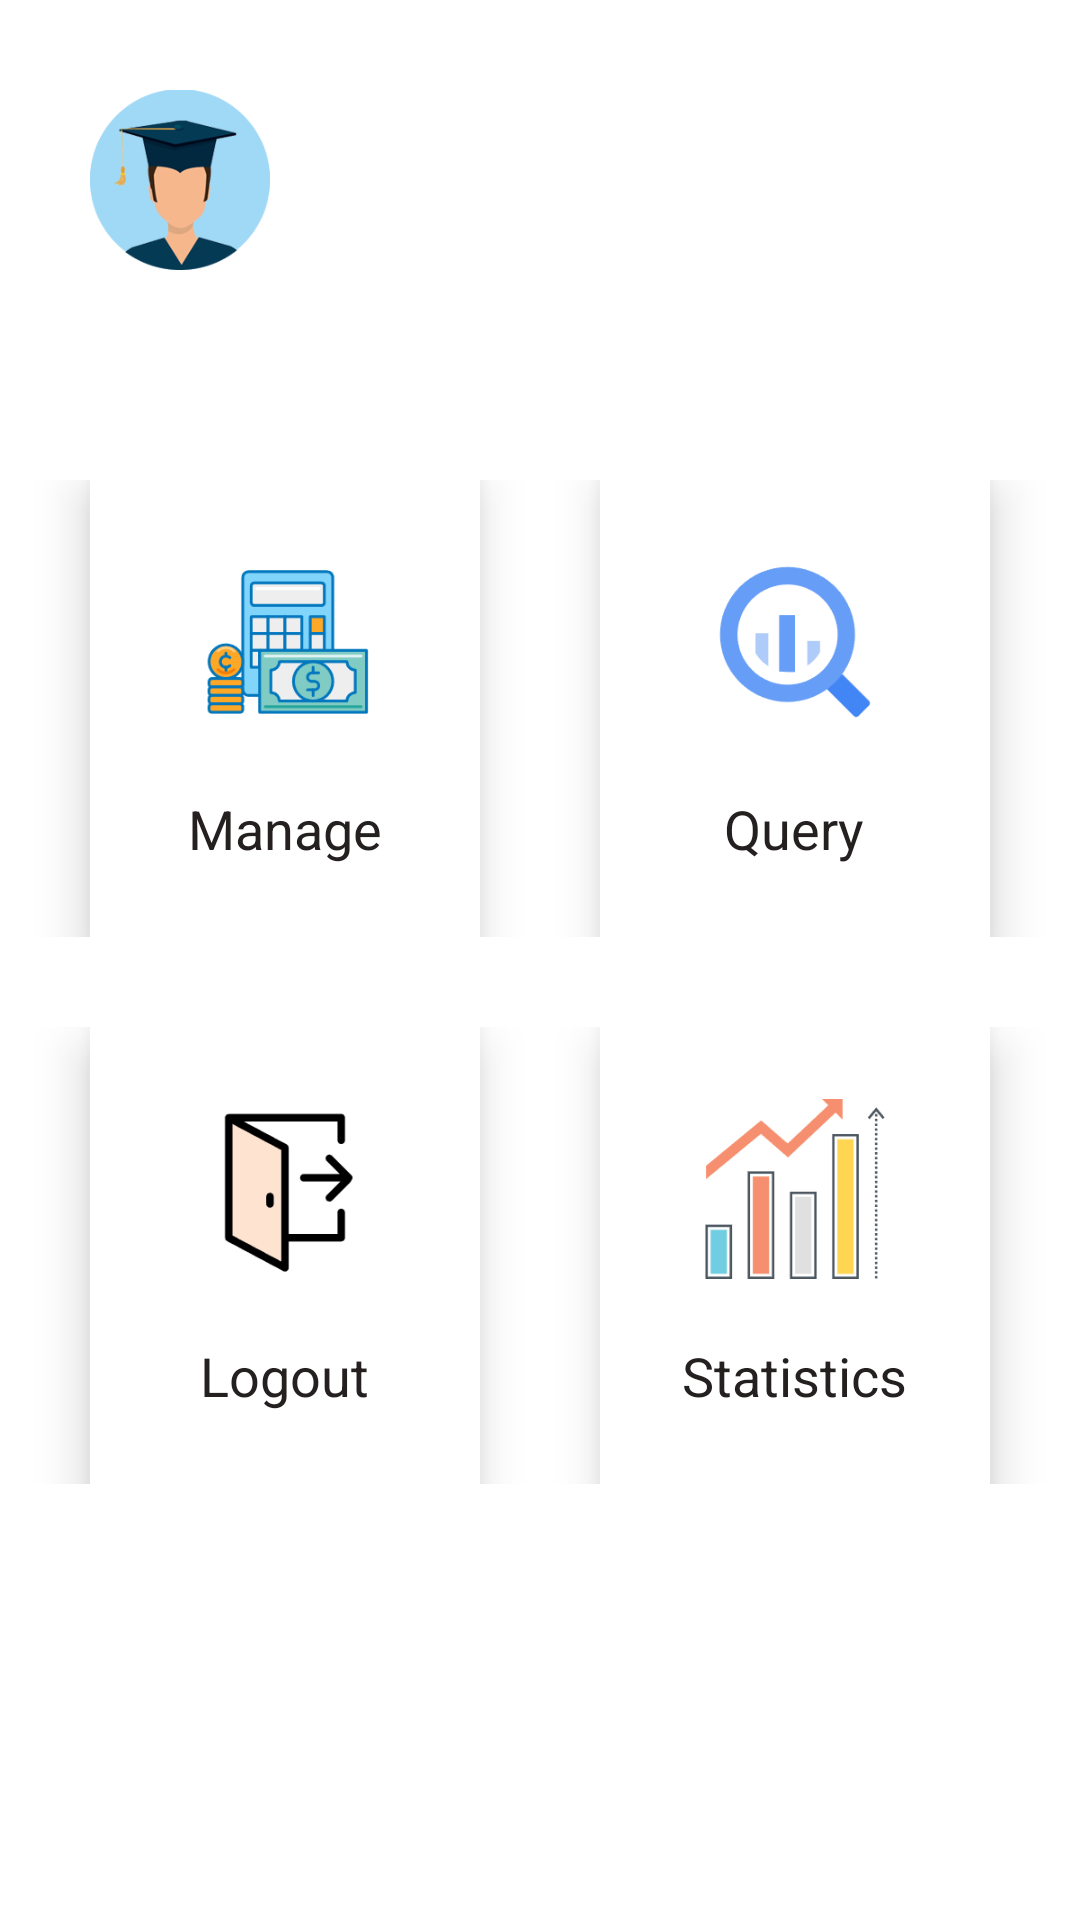

Where icons sit on this 1080*1920 app screen, as (left=x1, top=y1, right=x2, bottom=y2):
exit: (left=224, top=1113, right=353, bottom=1272)
profile: (left=90, top=90, right=270, bottom=270)
revenue: (left=207, top=570, right=368, bottom=714)
statics: (left=705, top=1099, right=885, bottom=1279)
